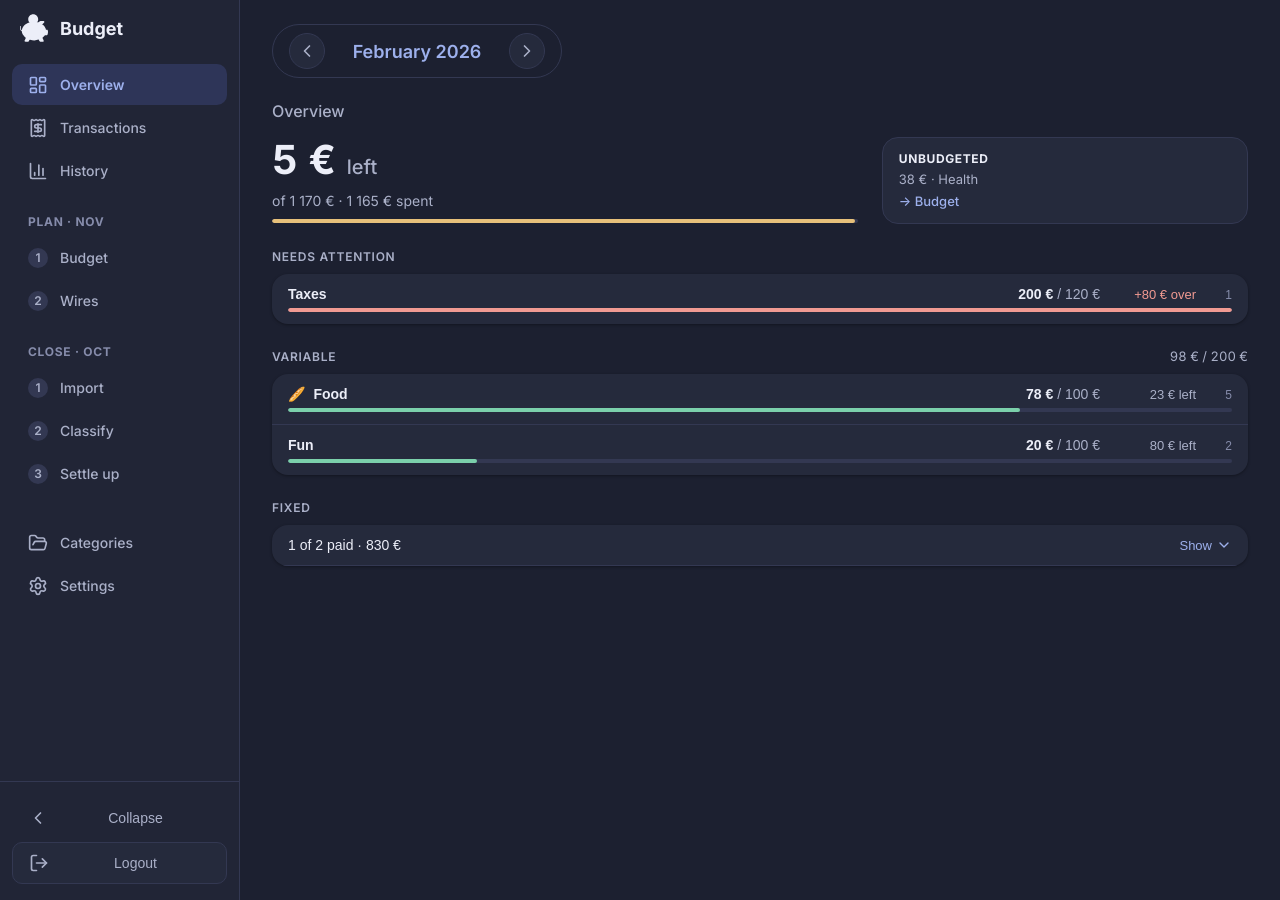
Test: Dashboard Page › should collapse fixed expenses into a summary and expand on demand
Expected: the text "Rent" is not shown
Click the button "1 of 2 paid · 830 € Show" at (338, 545), box [272,525,1248,566]
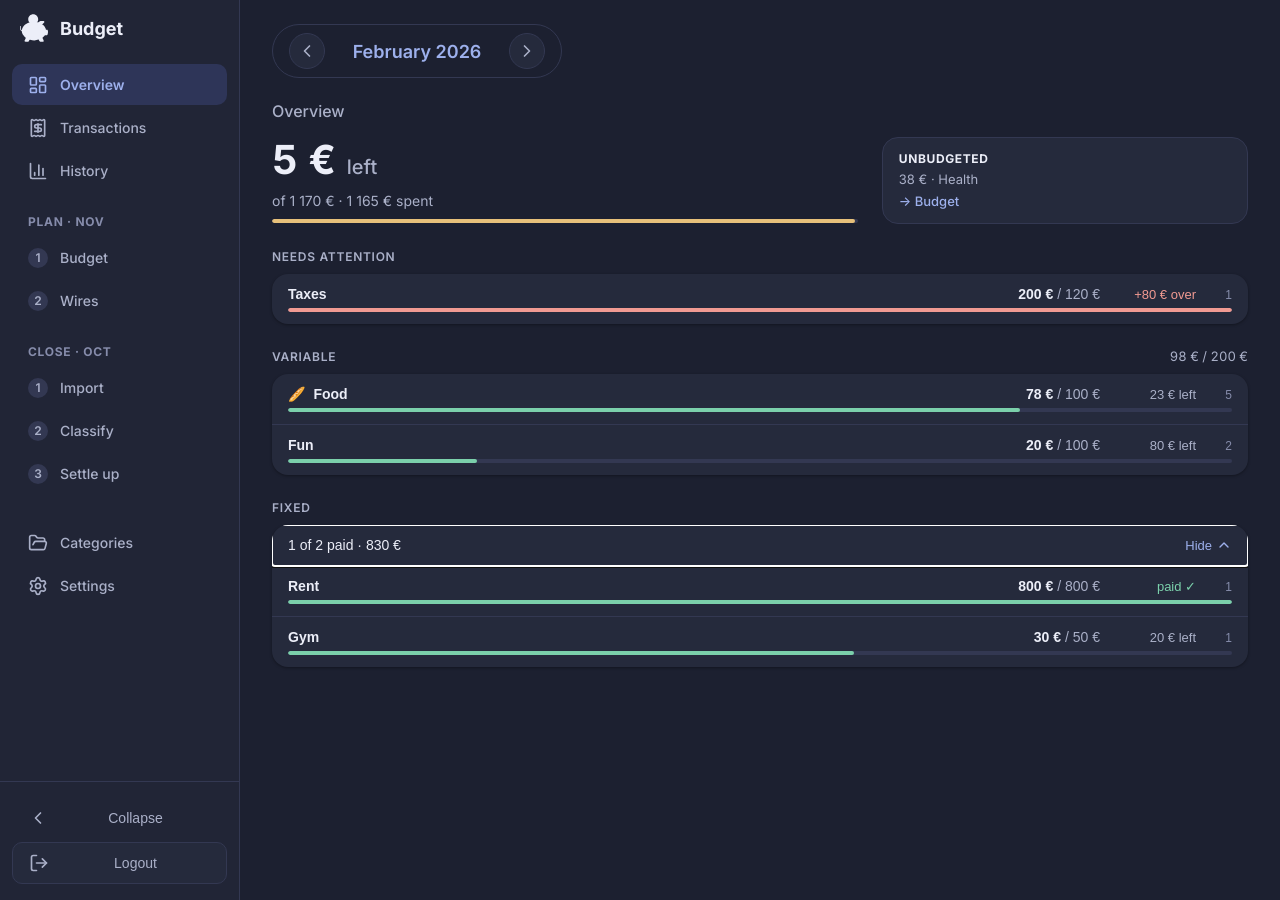
Result: the text "Rent" is shown at [288,578,319,594]
Result: the text "paid ✓" is shown at [1157,579,1196,594]
Result: the text "Gym" is shown at [288,629,319,645]
